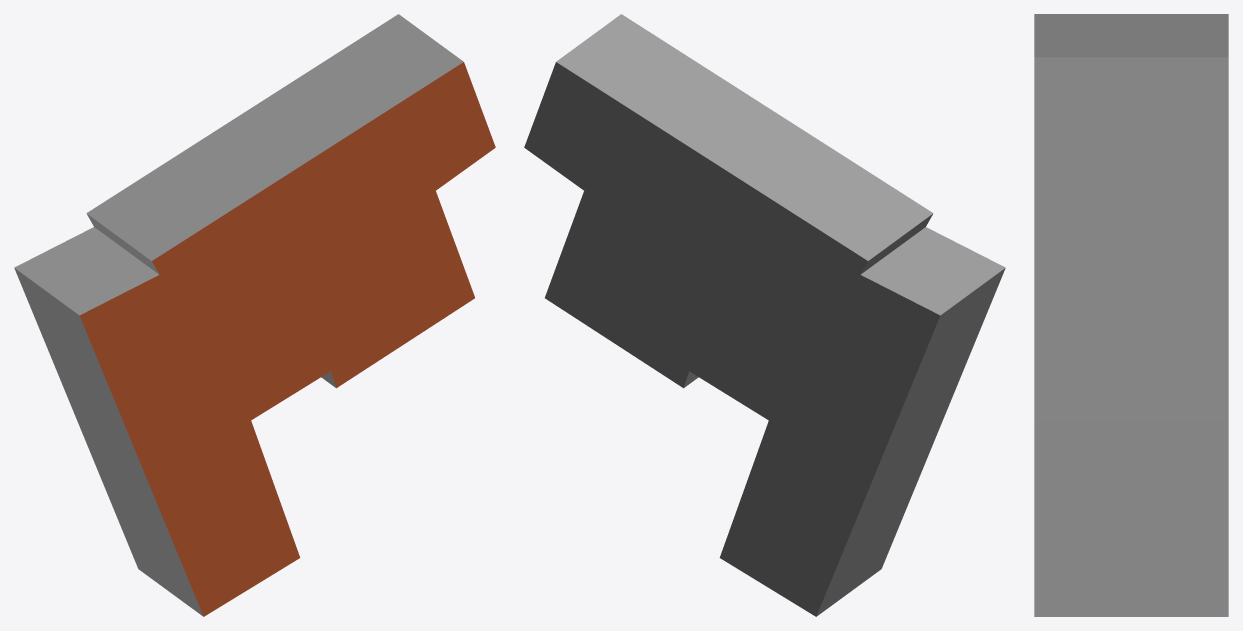
File: construction_5290_assumed_A_Casa_h6m.obj
3 renders of one model, left to right at view 1: azimuth 30°, elevation 25°; view 2: azimuth 150°, elevation 25°; view 3: azimuth 270°, elevation 25°, orthographic. The views are drawn at different scales.
Parts seen in each view (by area): view 1: construction_5290_assumed_A_Casa; view 2: construction_5290_assumed_A_Casa; view 3: construction_5290_assumed_A_Casa.
Boxes of the visible parts, x1,y1,x2,y2 form: construction_5290_assumed_A_Casa: [14, 14, 495, 616]; construction_5290_assumed_A_Casa: [524, 14, 1005, 616]; construction_5290_assumed_A_Casa: [1034, 14, 1228, 616].
Size of the model in its own units: 22.05 by 24.88 by 6.
